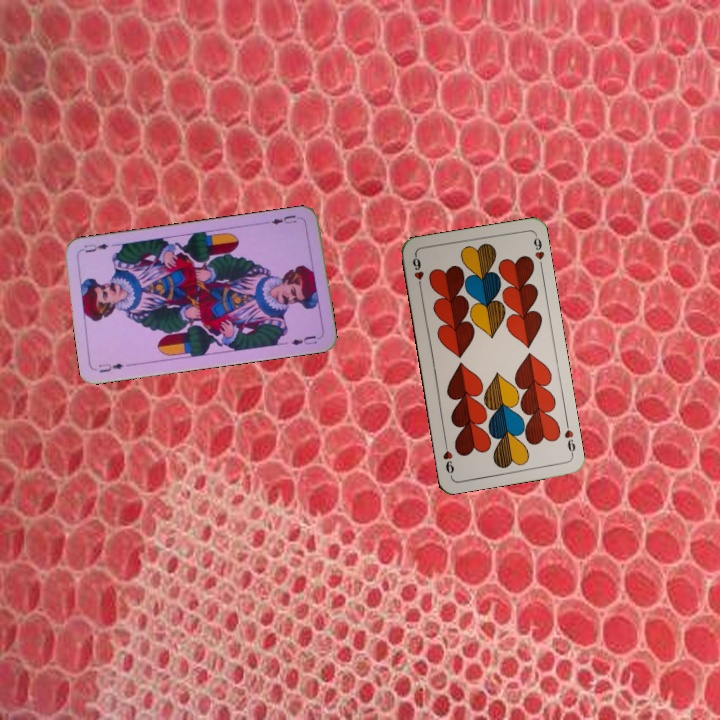EU: (263, 211, 304, 227), (95, 359, 126, 375)
H9: (408, 251, 426, 292), (560, 418, 578, 458)
